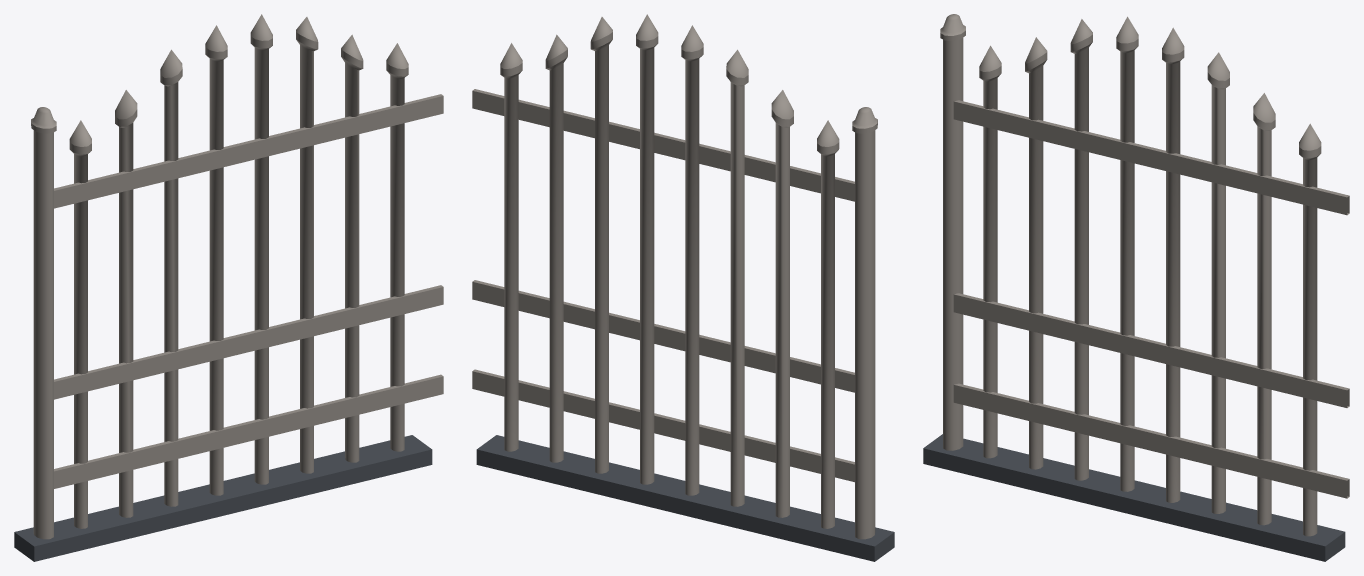
The model's file is Fence_8.fbx.
3 views of the same model, side by side, from view 1: azimuth 30°, elevation 25°; view 2: azimuth 150°, elevation 25°; view 3: azimuth 330°, elevation 25° (orthographic).
Visible parts, largest first — view 1: Fence_8; view 2: Fence_8; view 3: Fence_8.
Part boxes in pixels (<box>): Fence_8: <box>14,14,443,561</box>; Fence_8: <box>472,14,894,561</box>; Fence_8: <box>923,14,1349,561</box>.
Size of the model in its own units: 259 by 288 by 21.47.
